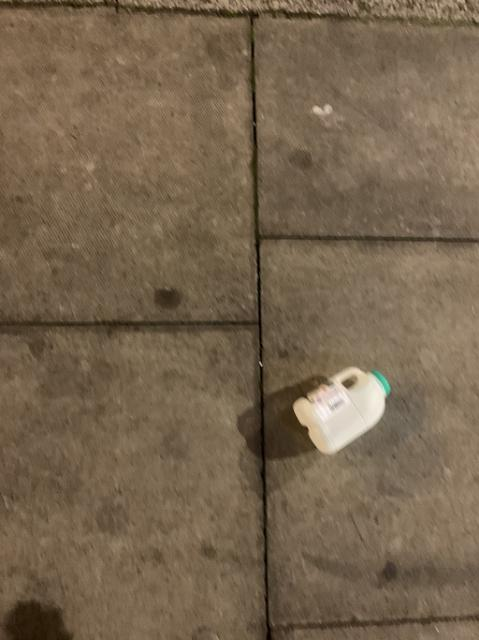plastic: (292, 365, 390, 453)
